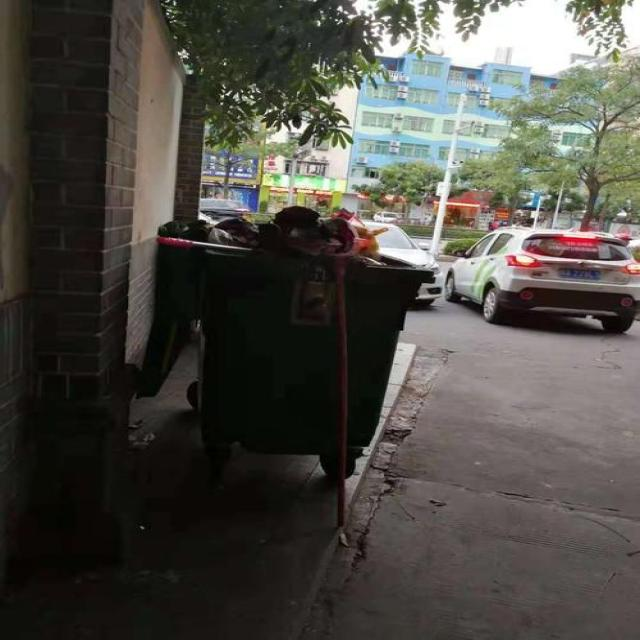overflow: (157, 206, 436, 447)
